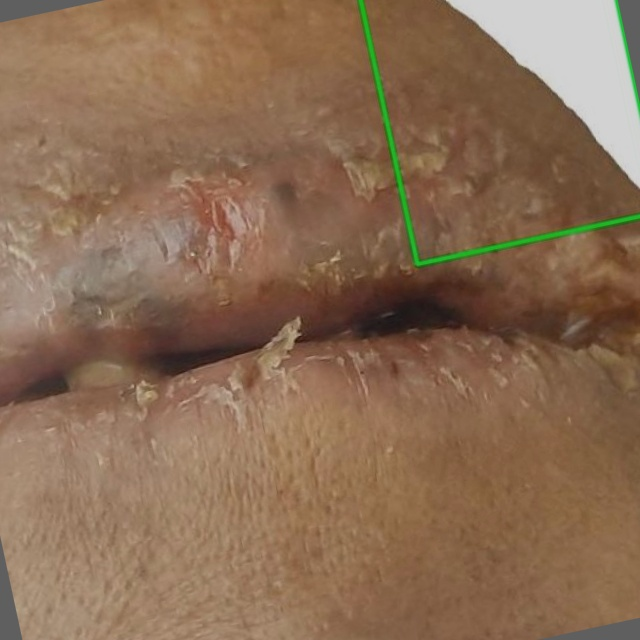Contact Dermatitis: (360, 0, 639, 264)
